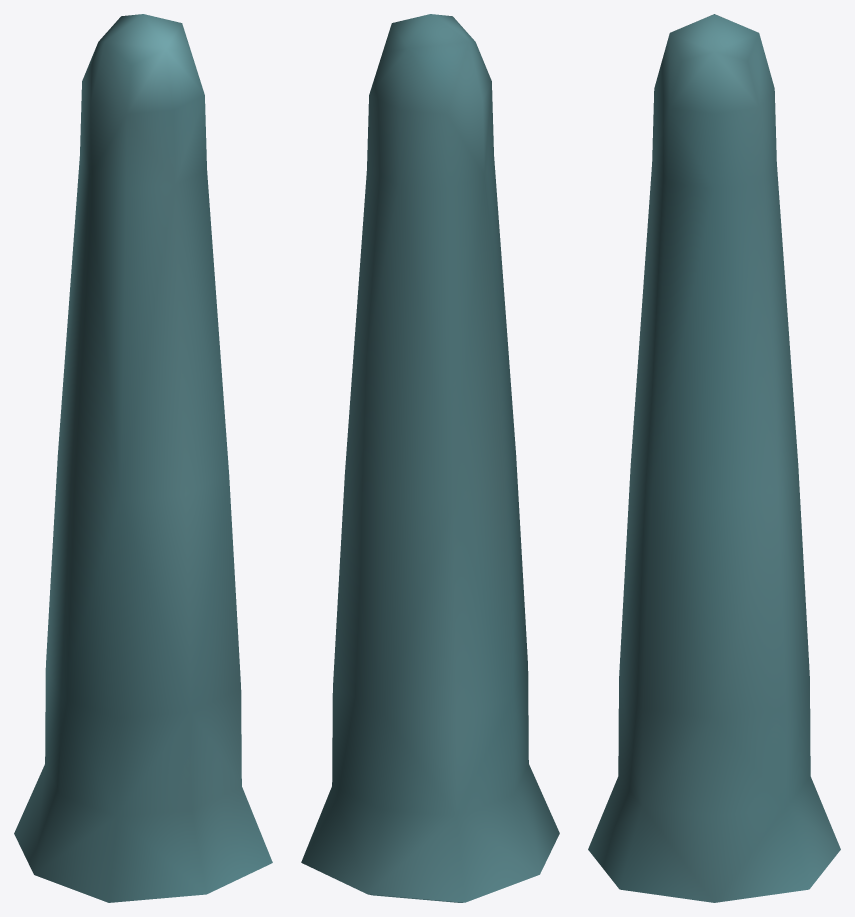
Rendered from geology-crystals-tinystalagmite_v4.fbx.
The picture shows the model from 3 angles, left to right: view 1: azimuth 30°, elevation 25°; view 2: azimuth 150°, elevation 25°; view 3: azimuth 270°, elevation 25°; orthographic projection.
Parts seen in each view (by area): view 1: TinyStalagmite_v4; view 2: TinyStalagmite_v4; view 3: TinyStalagmite_v4.
Boxes of the visible parts, x1=… form: TinyStalagmite_v4: x1=14, y1=14, x2=272, y2=902; TinyStalagmite_v4: x1=301, y1=14, x2=559, y2=902; TinyStalagmite_v4: x1=588, y1=14, x2=840, y2=902.
Size of the model in its own units: 2.6 by 9.51 by 2.6.
